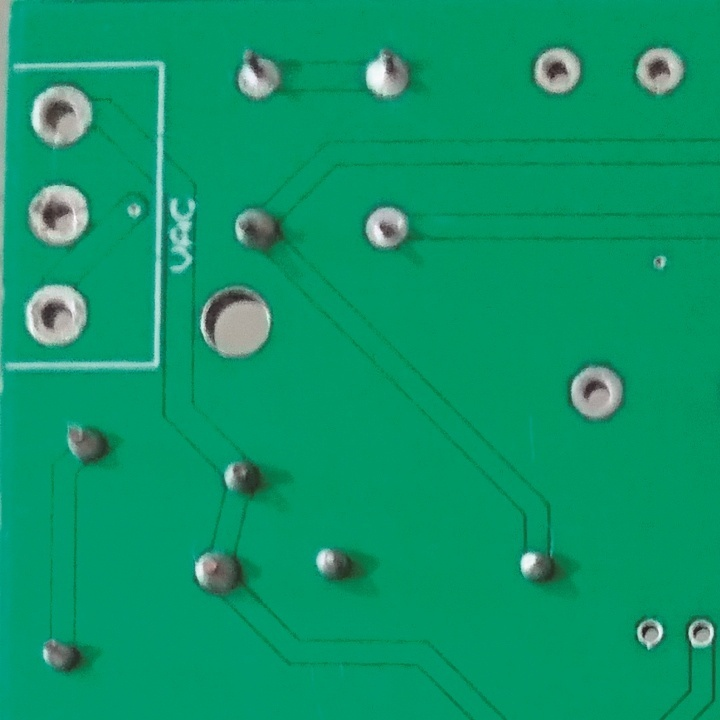F: (21, 279, 95, 349), (29, 81, 96, 155), (27, 183, 92, 255), (564, 361, 627, 426), (359, 44, 418, 113), (359, 196, 416, 258), (633, 40, 689, 101), (529, 43, 588, 100), (233, 49, 281, 105), (633, 613, 668, 652), (684, 612, 716, 649)
